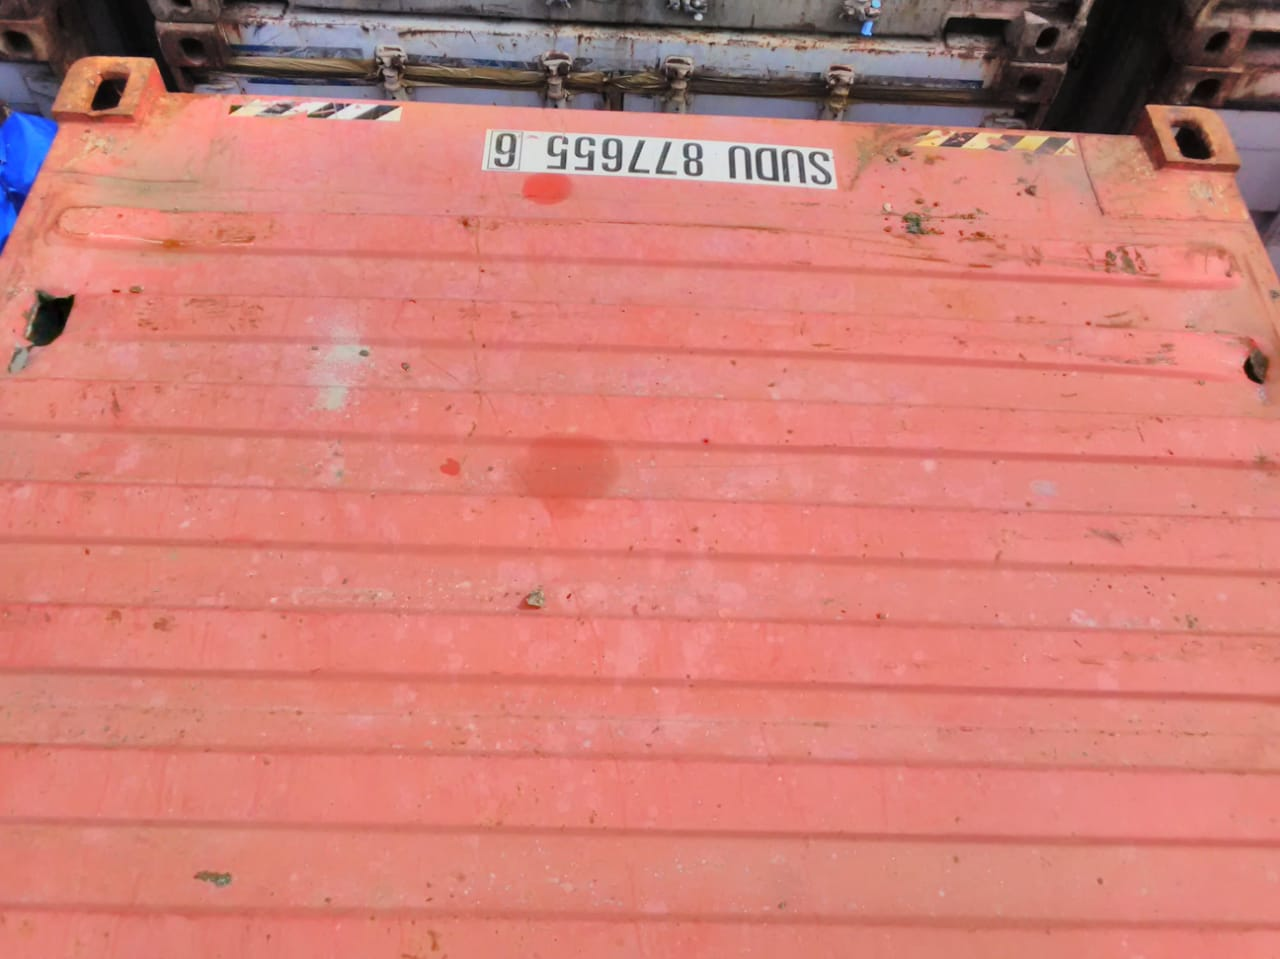severe: (11, 268, 110, 346), (1215, 313, 1275, 402)
